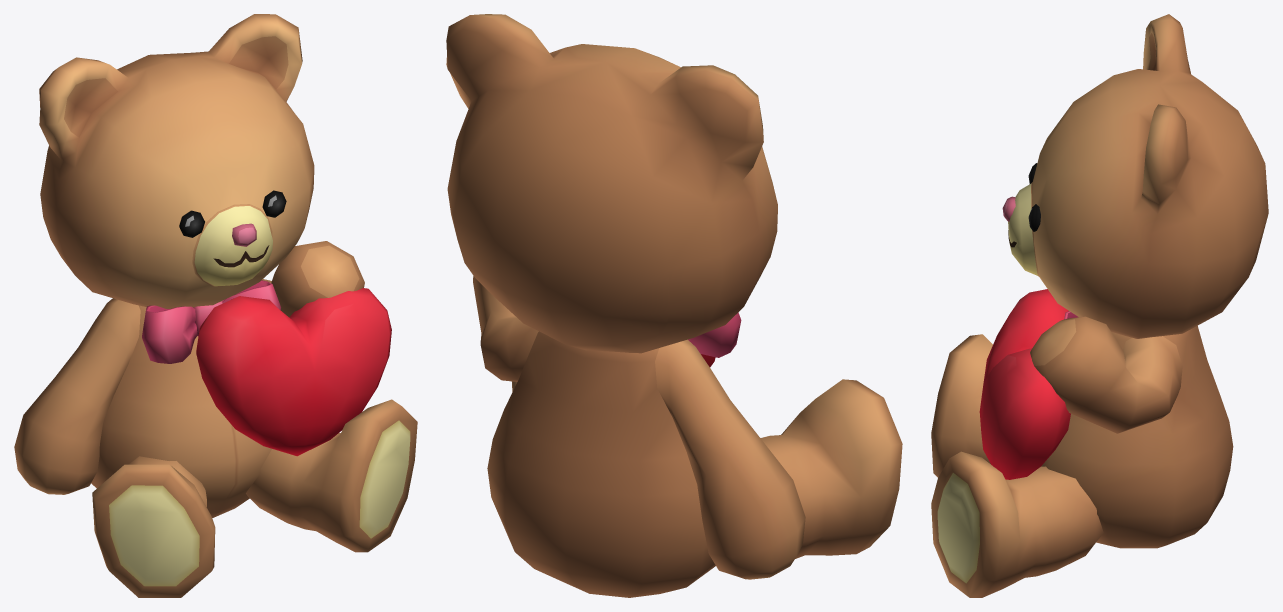
File: WItem_TreasureBear_001.FBX
3 views of the same model, side by side, from view 1: azimuth 30°, elevation 25°; view 2: azimuth 150°, elevation 25°; view 3: azimuth 270°, elevation 25° (orthographic). The views are drawn at different scales.
Visible parts, largest first — view 1: WItem_TreasureBear_001; view 2: WItem_TreasureBear_001; view 3: WItem_TreasureBear_001.
Boxes of the visible parts, <box> form: WItem_TreasureBear_001: <box>14,14,417,597</box>; WItem_TreasureBear_001: <box>446,14,902,597</box>; WItem_TreasureBear_001: <box>931,14,1268,597</box>.
Size of the model in its own units: 35.09 by 31.07 by 48.11.
